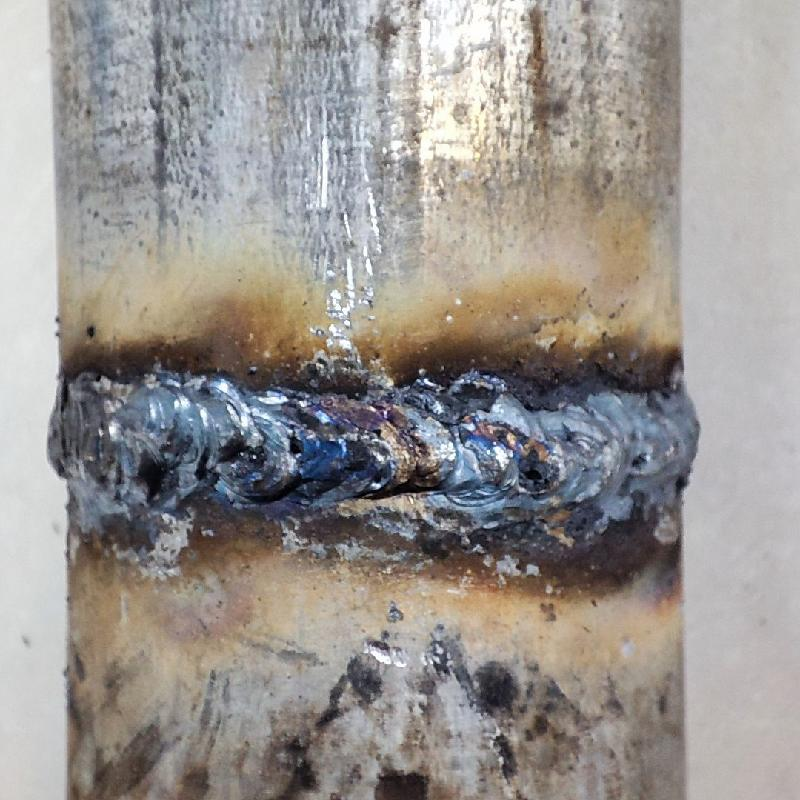Surface_pores: (513, 441, 555, 499), (272, 430, 317, 465)
good: (38, 370, 702, 518)
